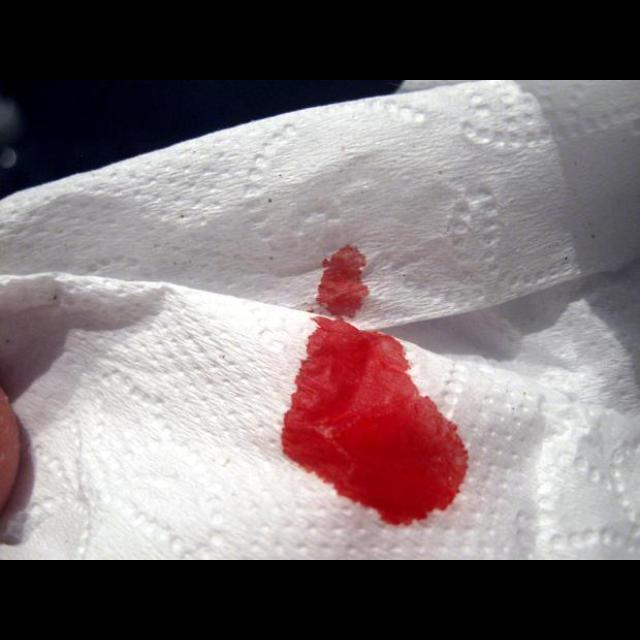blood: (283, 245, 469, 525)
